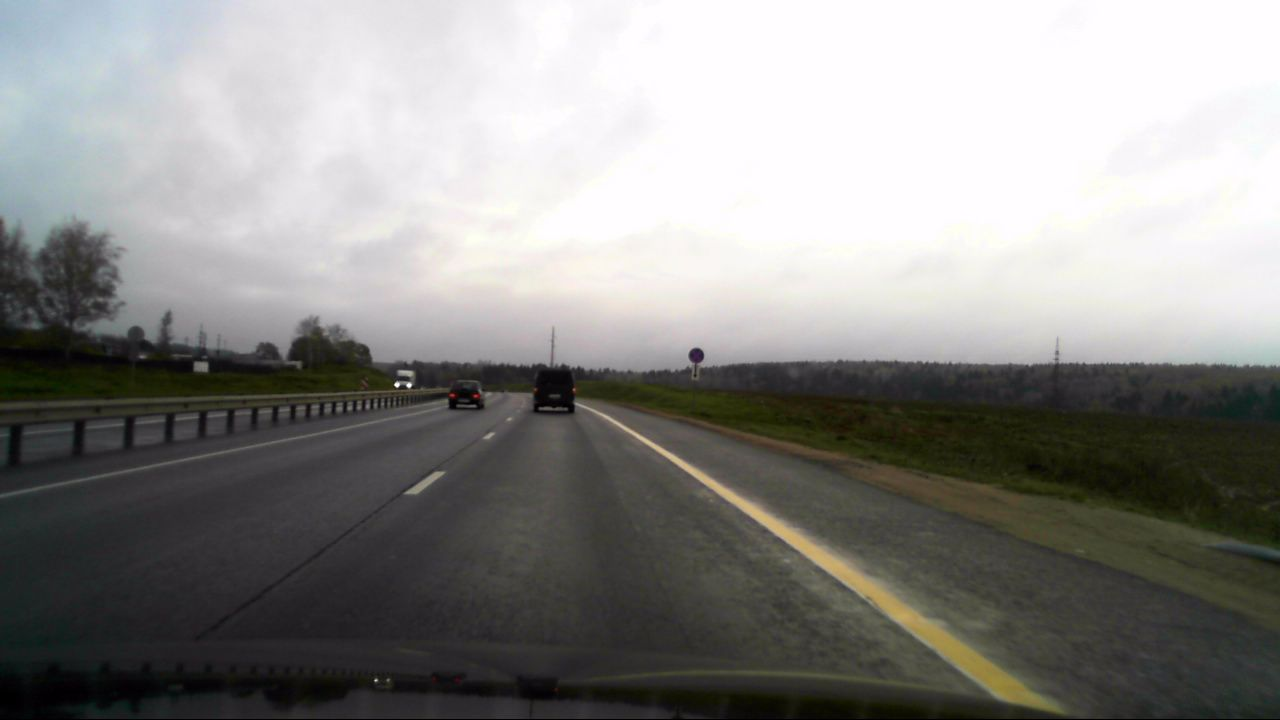No Parking: (688, 347, 704, 363)
